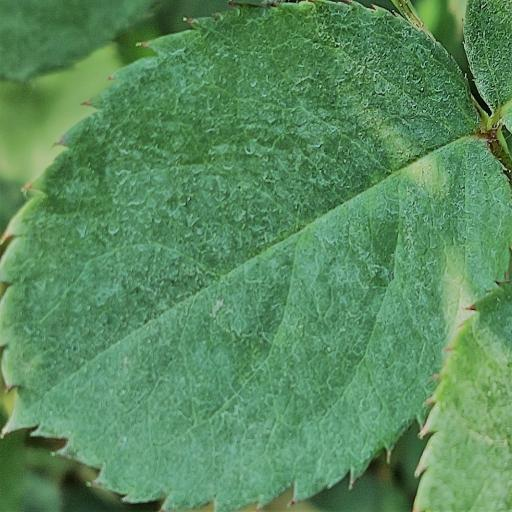healthy_leaf: (0, 0, 512, 512), (414, 281, 512, 512)
